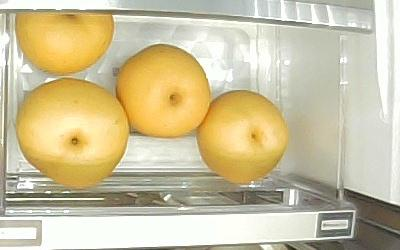pear: (15, 77, 130, 188), (117, 44, 212, 138), (197, 90, 290, 186), (14, 12, 114, 75)
